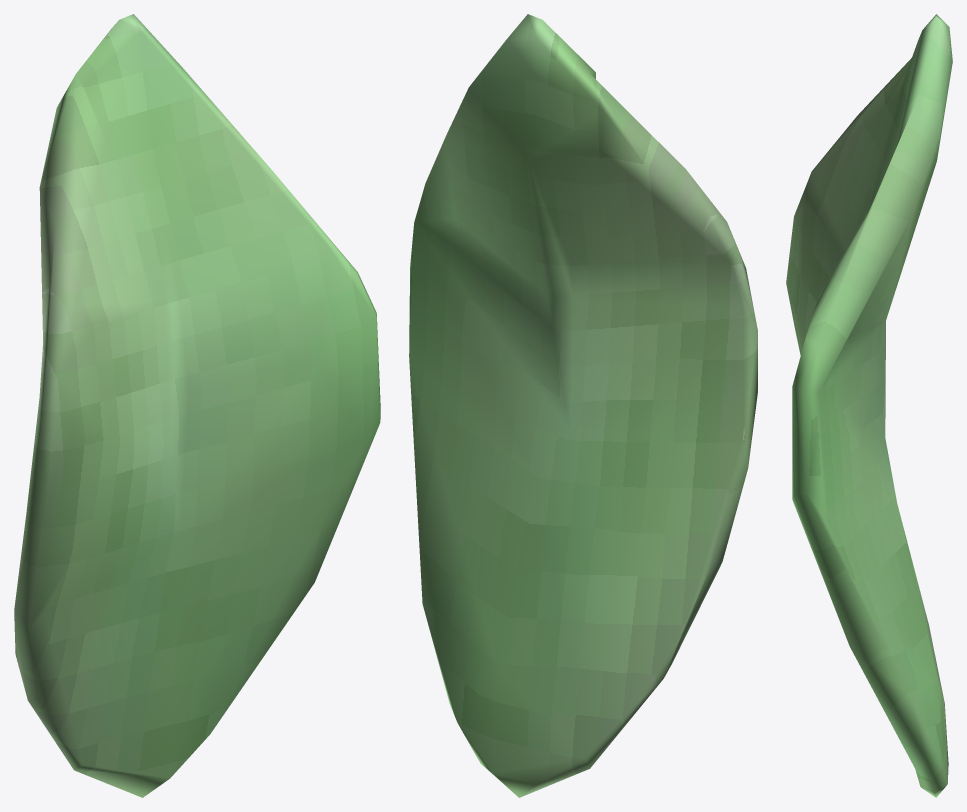
The model's file is broadleaf_c.glb.
3 renders of one model, left to right at view 1: azimuth 30°, elevation 25°; view 2: azimuth 150°, elevation 25°; view 3: azimuth 270°, elevation 25°, orthographic.
Parts seen in each view (by area): view 1: broadleaf_c; view 2: broadleaf_c; view 3: broadleaf_c.
Part boxes in pixels (left/top/right/bottom): broadleaf_c: left=14, top=14, right=380, bottom=797; broadleaf_c: left=409, top=14, right=757, bottom=797; broadleaf_c: left=786, top=14, right=952, bottom=797.
Size of the model in its own units: 0.048 by 0.1047 by 0.0204.
Materials: 1 (1 with a texture image).
